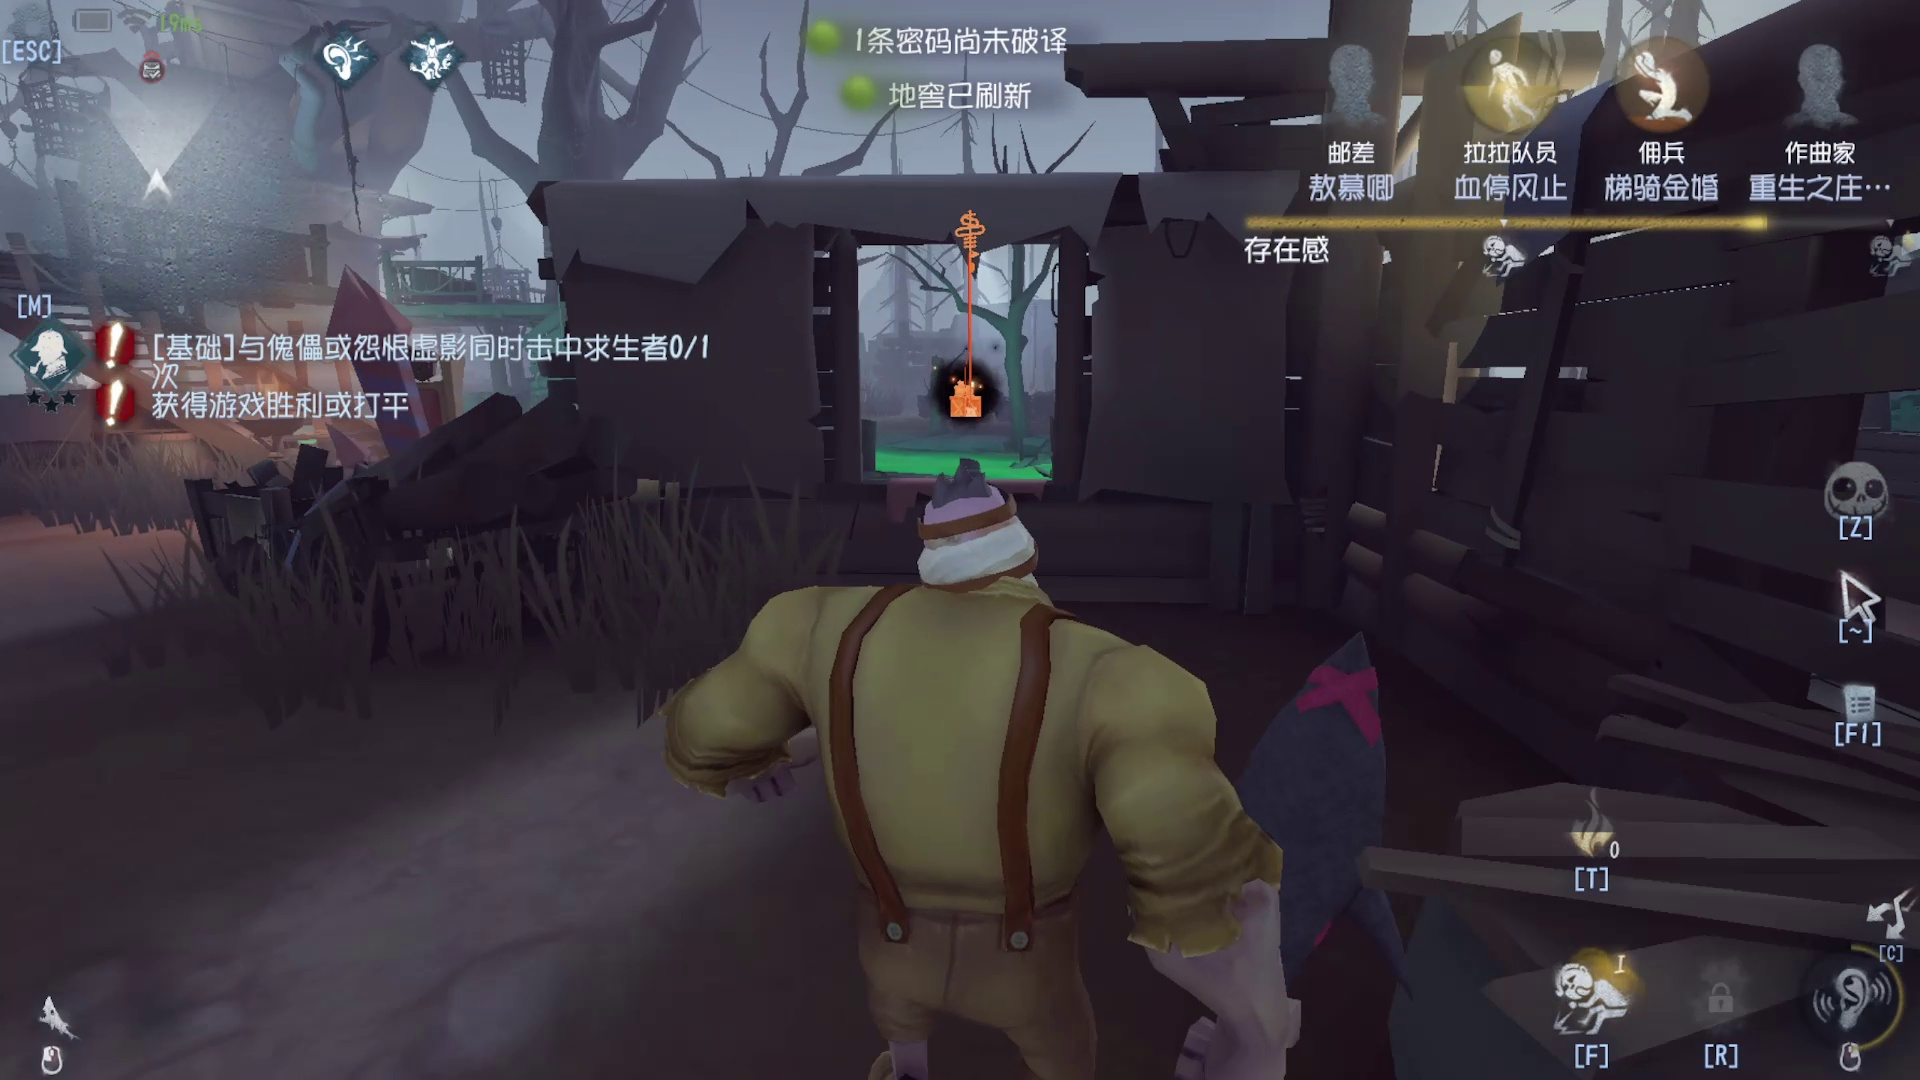密码机: (913, 179, 997, 435)
技能: (1484, 750, 1679, 932)
